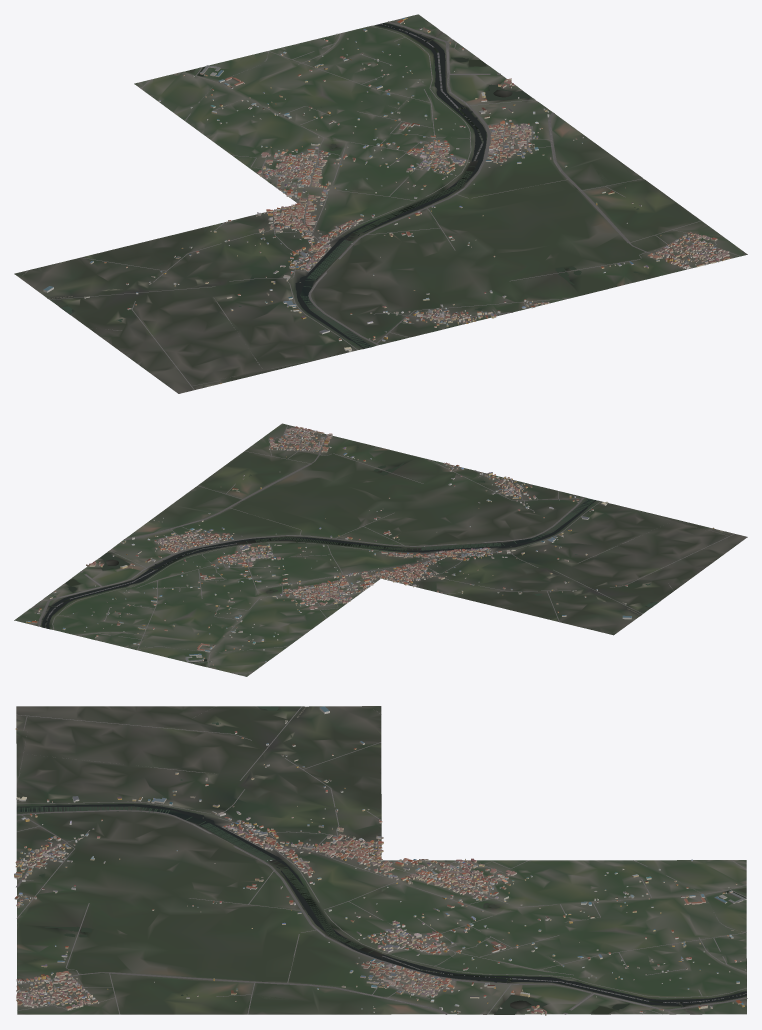
3 renders of one model, top to bottom at view 1: azimuth 30°, elevation 25°; view 2: azimuth 150°, elevation 25°; view 3: azimuth 270°, elevation 25°, orthographic. The views are drawn at different scales.
Visible parts, largest first — view 1: ground, buildings, roads, water; view 2: ground, buildings, roads, water; view 3: ground, buildings, roads, water.
Part boxes in pixels (<box>): ground: <box>14,14,747,393</box>; buildings: <box>43,17,730,383</box>; roads: <box>22,21,740,390</box>; water: <box>48,23,641,348</box>; ground: <box>14,423,747,676</box>; buildings: <box>26,426,714,665</box>; roads: <box>38,425,734,673</box>; water: <box>37,445,658,666</box>; ground: <box>16,706,746,1014</box>; buildings: <box>14,706,746,1015</box>; roads: <box>16,706,747,1014</box>; water: <box>17,706,746,1014</box>.
Size of the model in its own units: 2815 by 20.48 by 2820.
